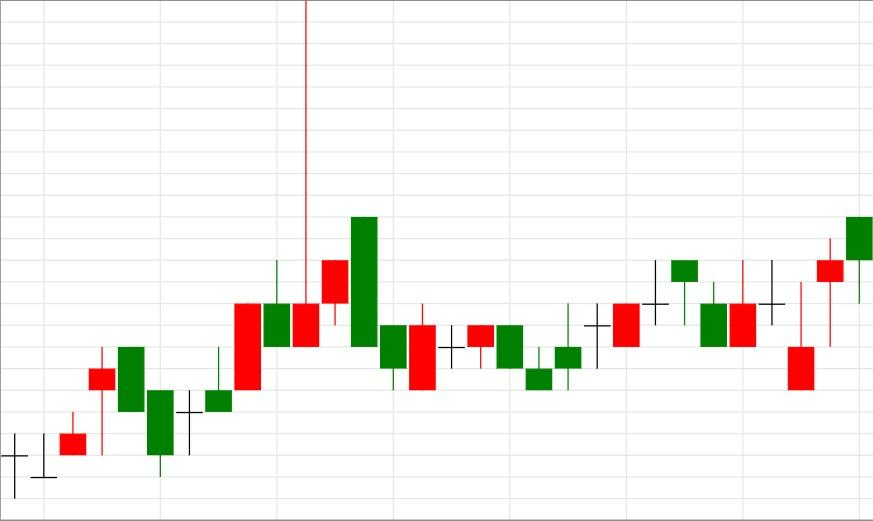bearish_engulfing_fall: (146, 0, 379, 476)
hanging_man_fall: (524, 260, 699, 392)
